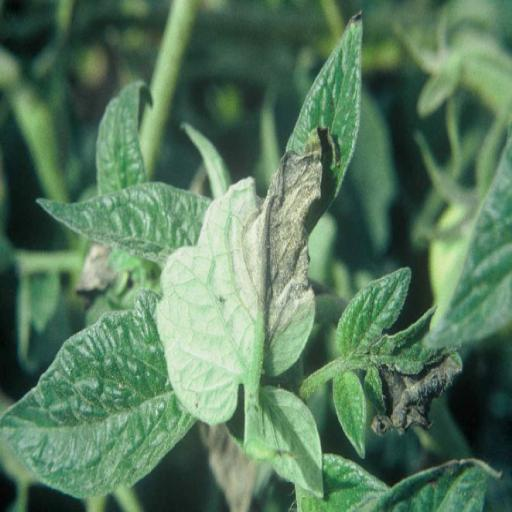Late Blight: (154, 18, 364, 458)
